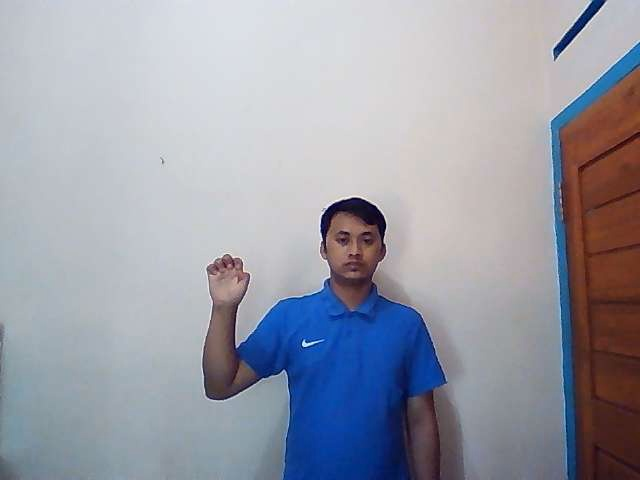E: (207, 254, 250, 306)
